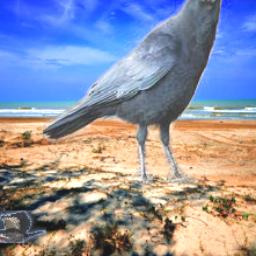Crow: (43, 0, 235, 187)
Woodpecker: (0, 210, 45, 243)
